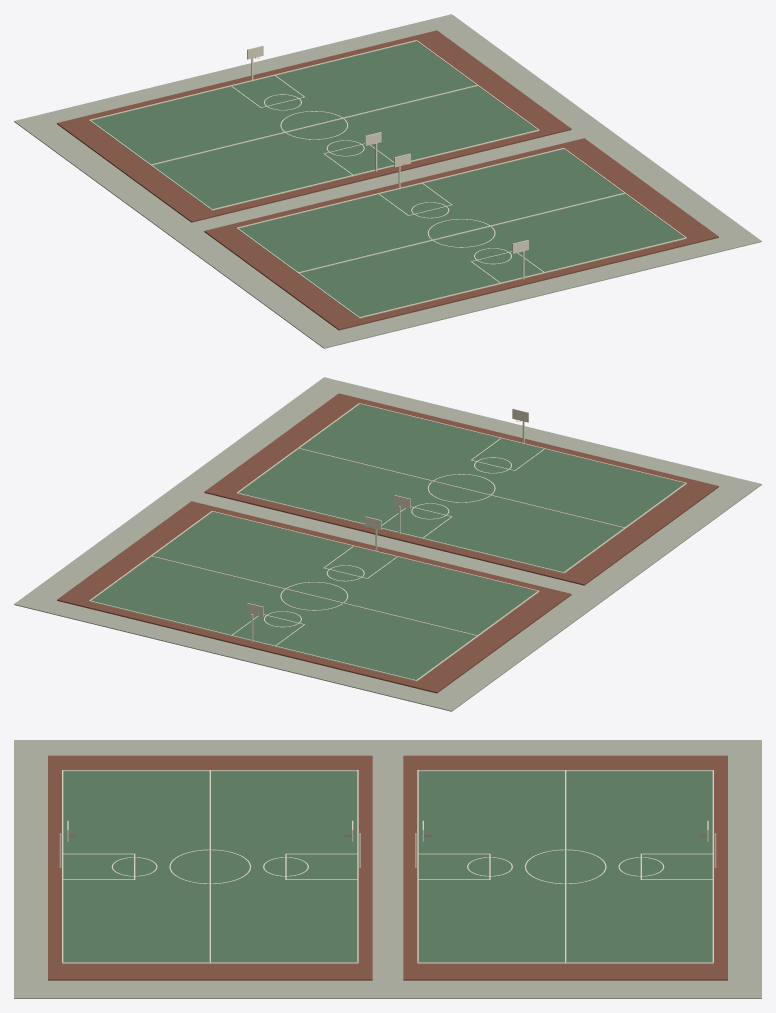
Rendered from basket_B_east.glb.
3 renders of one model, top to bottom at view 1: azimuth 30°, elevation 25°; view 2: azimuth 150°, elevation 25°; view 3: azimuth 270°, elevation 25°, orthographic. The views are drawn at different scales.
Parts seen in each view (by area): view 1: Court_2_CourtInfield, Court_1_CourtInfield, PavedSurround, Court_2_CourtRed, Court_1_CourtRed, Court_2_CourtLines, Court_1_CourtLines; view 2: Court_1_CourtInfield, Court_2_CourtInfield, PavedSurround, Court_1_CourtRed, Court_2_CourtRed, Court_1_CourtLines, Court_2_CourtLines; view 3: Court_1_CourtInfield, Court_2_CourtInfield, PavedSurround, Court_1_CourtRed, Court_2_CourtRed, Court_1_CourtLines, Court_2_CourtLines.
Boxes of the visible parts, x1,y1,x2,y2 form: Court_2_CourtInfield: (239,149,684,316); Court_1_CourtInfield: (91,41,536,209); PavedSurround: (14,14,761,348); Court_2_CourtRed: (204,138,718,330); Court_1_CourtRed: (57,30,571,222); Court_2_CourtLines: (236,148,686,318); Court_1_CourtLines: (89,40,539,210); Court_1_CourtInfield: (91,512,536,679); Court_2_CourtInfield: (239,404,684,572); PavedSurround: (14,377,761,711); Court_1_CourtRed: (57,501,571,693); Court_2_CourtRed: (204,393,718,585); Court_1_CourtLines: (89,511,539,681); Court_2_CourtLines: (236,403,686,573); Court_1_CourtInfield: (418,771,712,962); Court_2_CourtInfield: (63,771,357,962); PavedSurround: (14,740,761,998); Court_1_CourtRed: (403,755,727,980); Court_2_CourtRed: (48,755,372,980); Court_1_CourtLines: (417,770,713,963); Court_2_CourtLines: (62,770,358,963).
Size of the model in its own units: 49.18 by 3.97 by 60.32.
